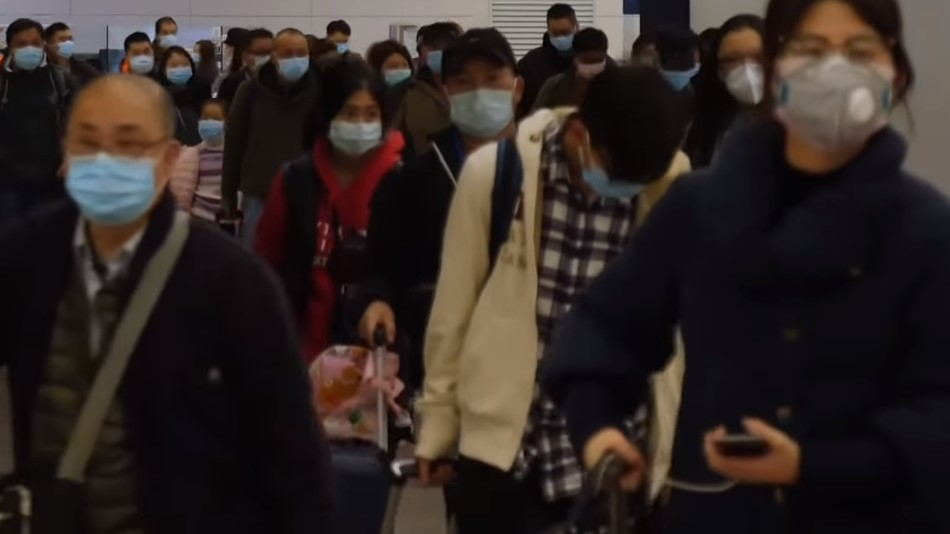face_with_mask: (768, 2, 907, 169), (65, 85, 184, 219), (442, 40, 524, 138), (711, 11, 763, 105), (322, 79, 384, 157), (3, 16, 44, 78), (270, 27, 313, 83), (542, 3, 581, 58), (369, 39, 412, 87), (191, 97, 229, 148), (117, 28, 157, 76), (48, 20, 81, 59), (164, 41, 196, 76)
